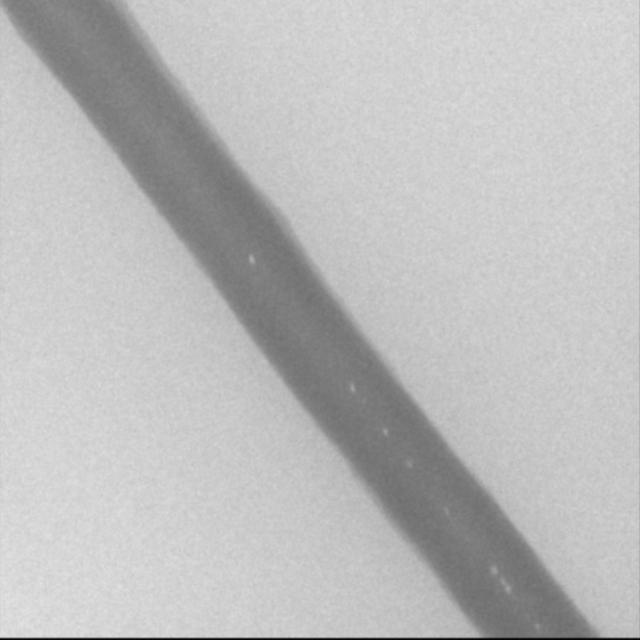air hole: (347, 381, 357, 395), (247, 252, 256, 266), (380, 425, 389, 439), (488, 564, 498, 576), (503, 583, 512, 595)
